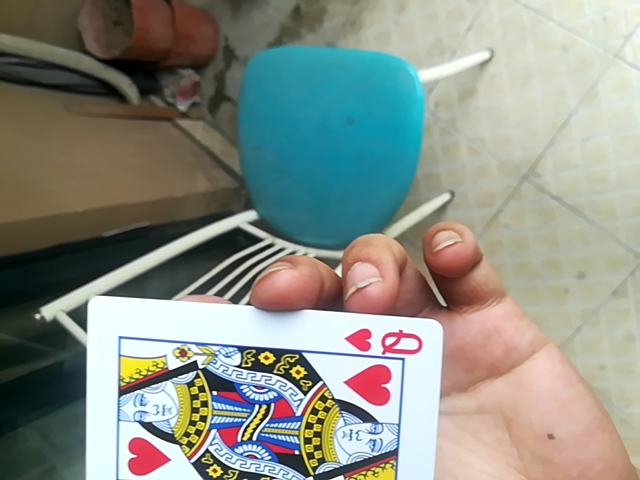hx q: (89, 288, 445, 480)
